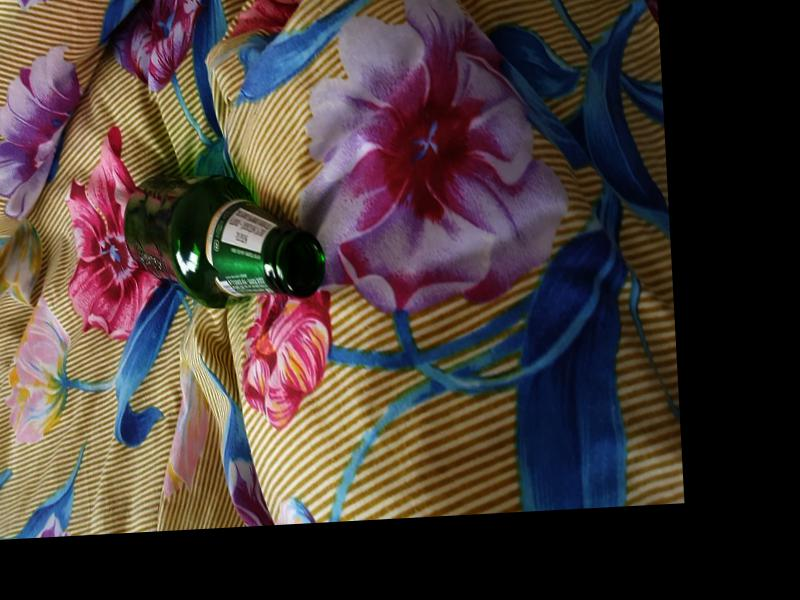Beer: (122, 174, 326, 312)
